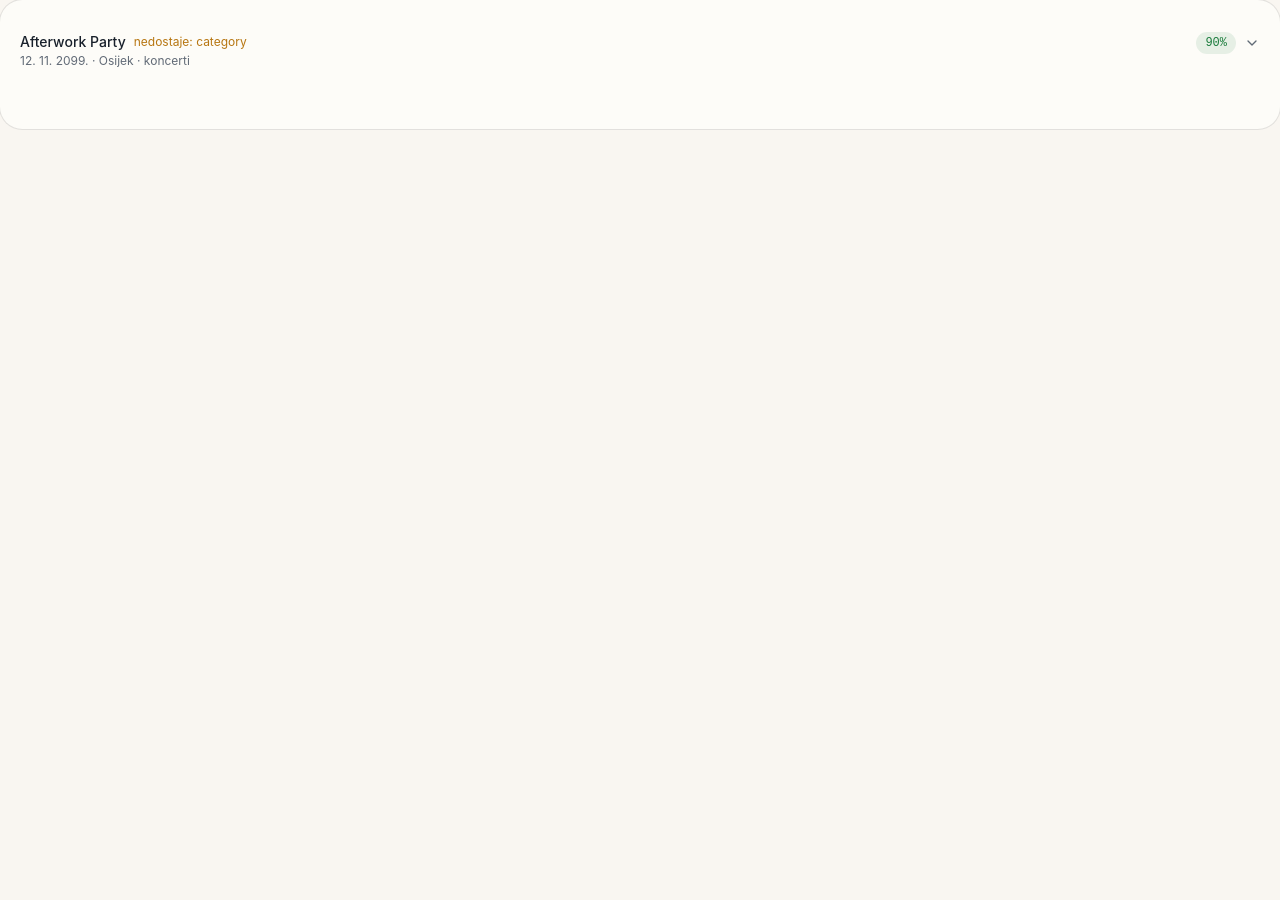
it: Izdvojeno in the parsed candidate review › can be turned back off before the import
The image size is (1280, 900).
Later steps or results of the test are not shown.
Click the button: (73, 42) x1=0 y1=16 x2=1279 y2=85
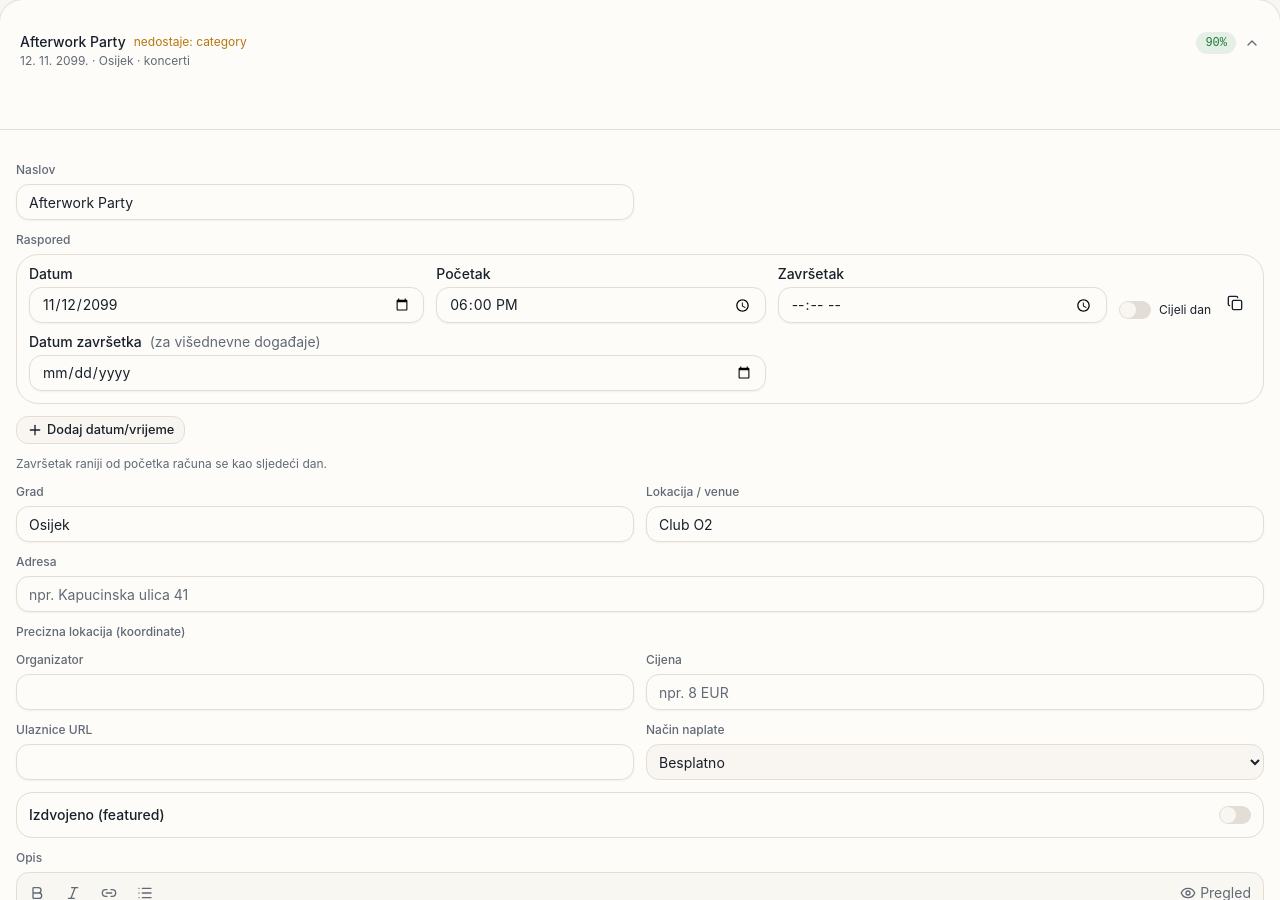
Now the checkbox labelled "Izdvojeno (featured)" is shown
Click the checkbox labelled "Izdvojeno (featured)": (97, 815) x1=29 y1=805 x2=165 y2=825
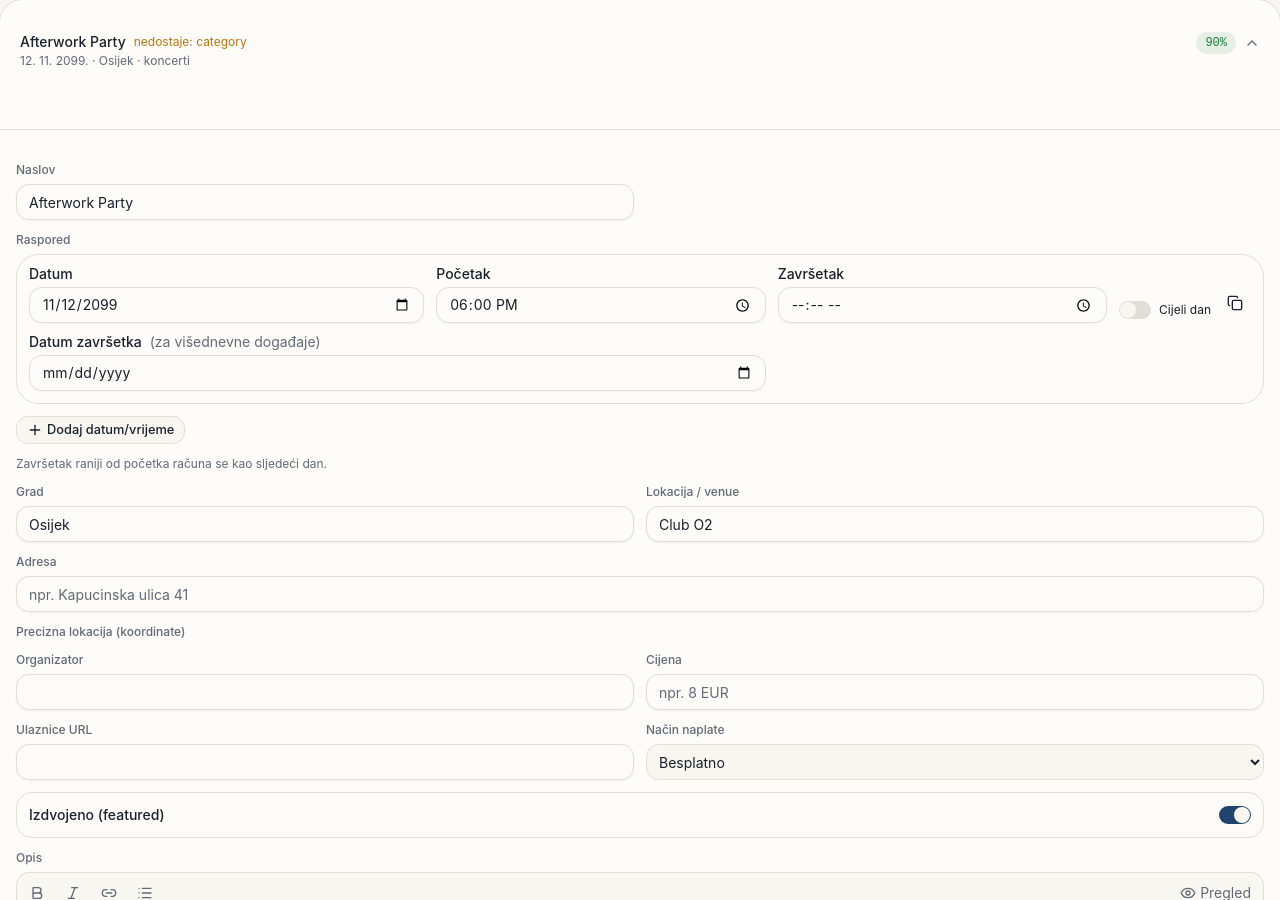
Now the checkbox labelled "Izdvojeno (featured)" is shown
Click the checkbox labelled "Izdvojeno (featured)": (97, 815) x1=29 y1=805 x2=165 y2=825
(page scrolled)
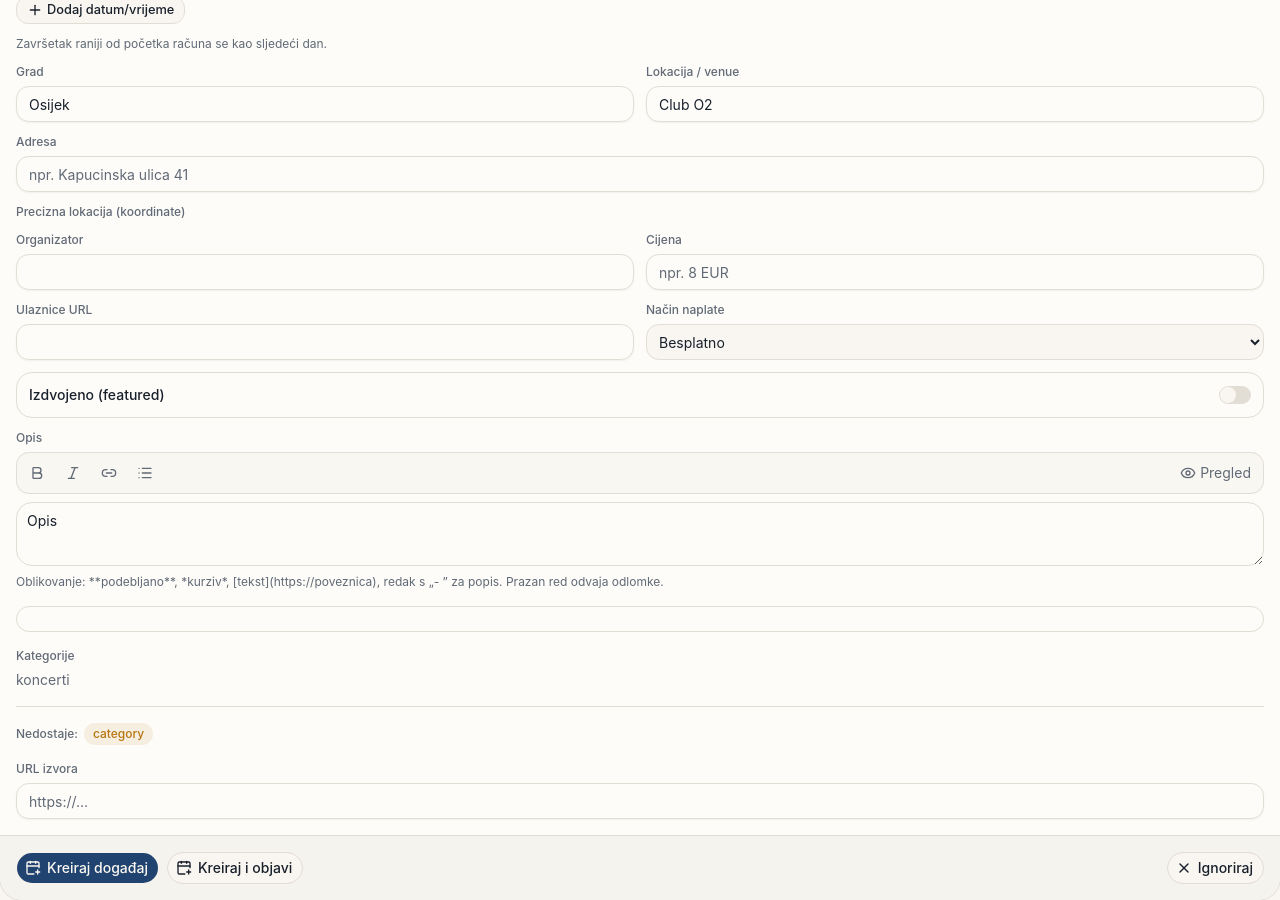
Now the button "Kreiraj događaj" is shown, box x1=16 y1=852 x2=159 y2=884
